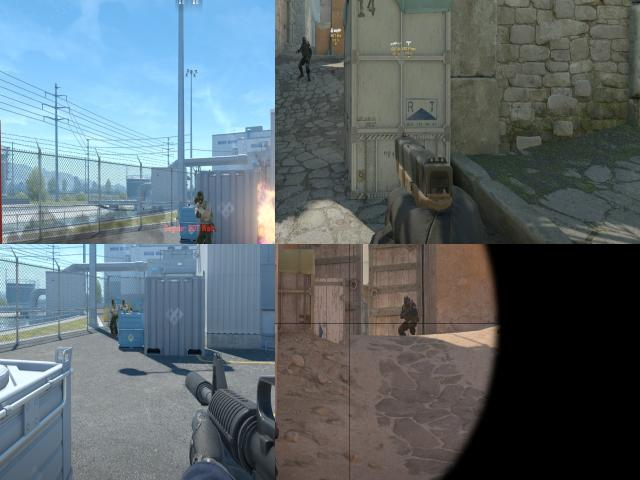CT: (298, 34, 312, 82), (399, 295, 418, 330), (275, 401, 279, 480)
CT-Head: (300, 36, 308, 50), (404, 296, 411, 303)
T: (194, 189, 213, 244), (110, 300, 118, 333), (120, 300, 128, 313)
T-Head: (196, 191, 207, 209), (122, 300, 126, 305), (112, 300, 115, 306)
